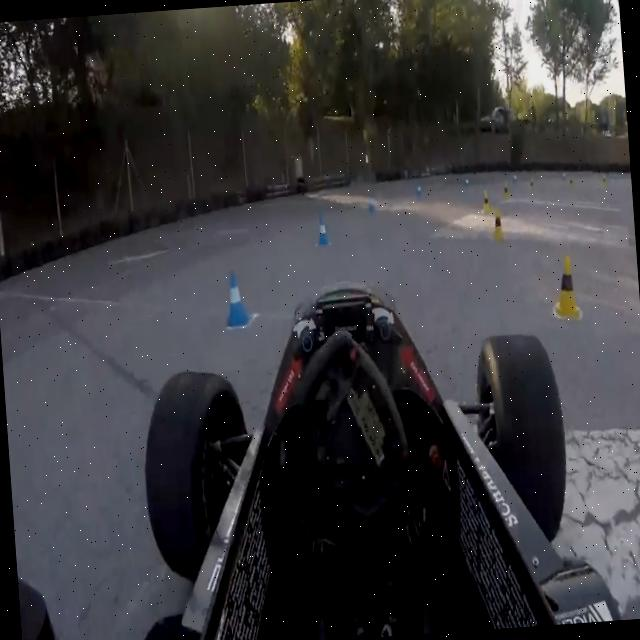blue_cone: (221, 262, 253, 330), (314, 211, 332, 248)
yellow_cone: (551, 254, 583, 323), (489, 209, 506, 242), (479, 188, 492, 214), (501, 182, 512, 200)
